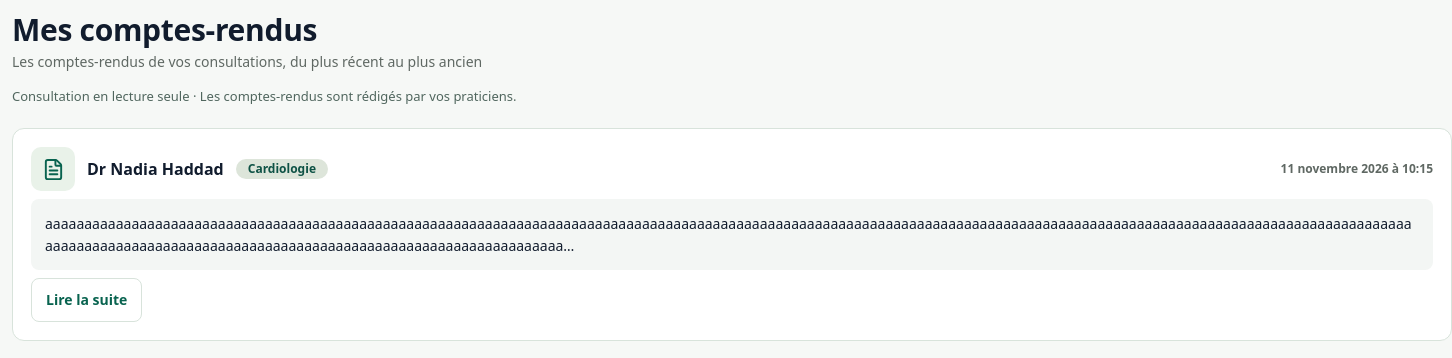
it: a long report shows its start, then the whole text on demand
Expected: the list item does not show "FIN", [12,128,1451,341]
Click the button "Lire la suite": click(87, 300) [31,278,142,322]
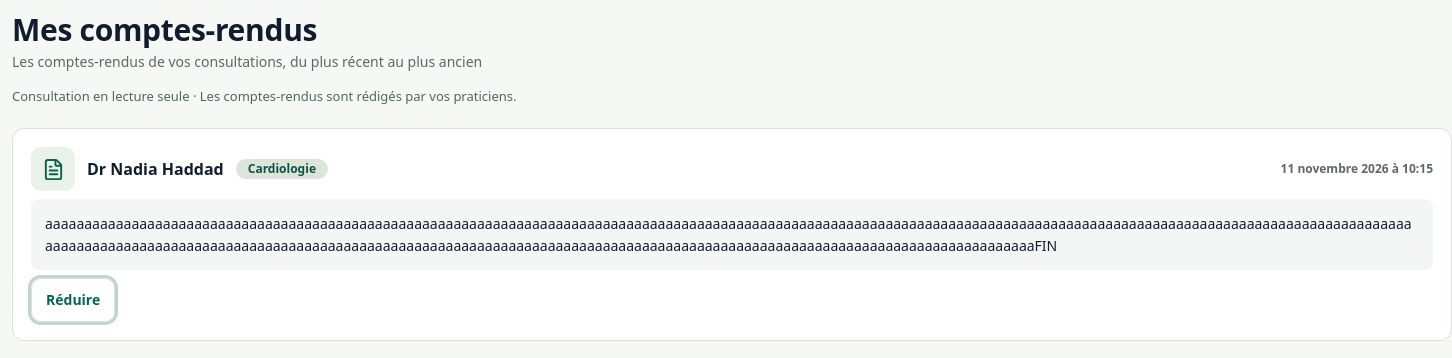
Result: the list item shows "FIN" at [12,128,1451,341]
Result: the button "Réduire" is expanded at [31,278,115,322]
